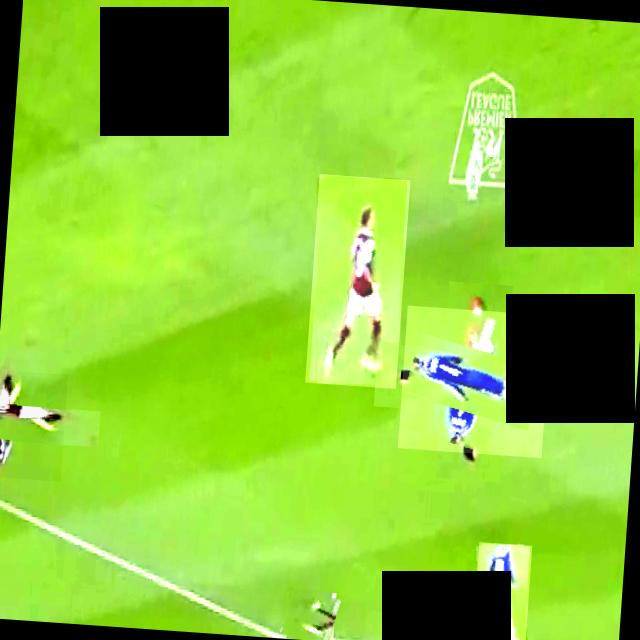soccer-player: (396, 304, 550, 457), (304, 172, 409, 388), (0, 368, 66, 480), (470, 541, 531, 640), (280, 587, 338, 640)
